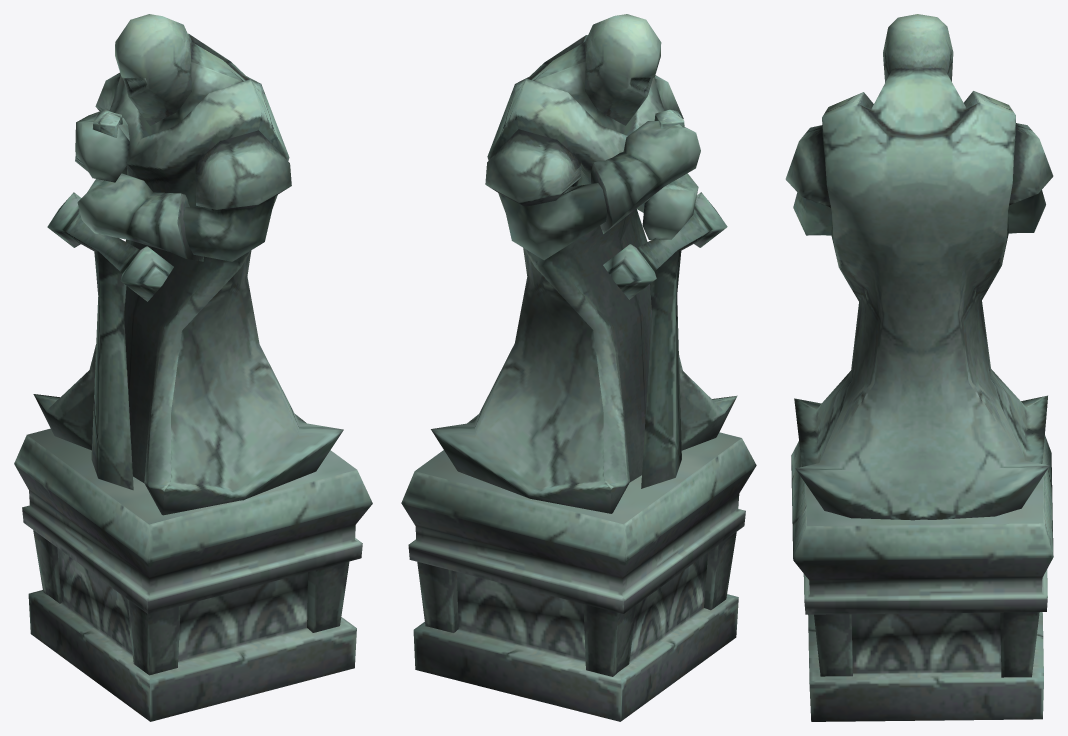
The model's file is shixiang_02.FBX.
3 renders of one model, left to right at view 1: azimuth 30°, elevation 25°; view 2: azimuth 150°, elevation 25°; view 3: azimuth 270°, elevation 25°, orthographic.
Parts seen in each view (by area): view 1: shixiang_02, shixiang_dizuo; view 2: shixiang_02, shixiang_dizuo; view 3: shixiang_02, shixiang_dizuo.
Part boxes in pixels (left/top/right/bottom): shixiang_02: left=33, top=14, right=343, bottom=515; shixiang_dizuo: left=14, top=428, right=372, bottom=721; shixiang_02: left=431, top=14, right=737, bottom=513; shixiang_dizuo: left=401, top=432, right=756, bottom=721; shixiang_02: left=785, top=14, right=1053, bottom=520; shixiang_dizuo: left=791, top=435, right=1053, bottom=721.
Bounding box in the file's own units: 73.98 × 201 × 76.6.
1 material, 1 textured.
